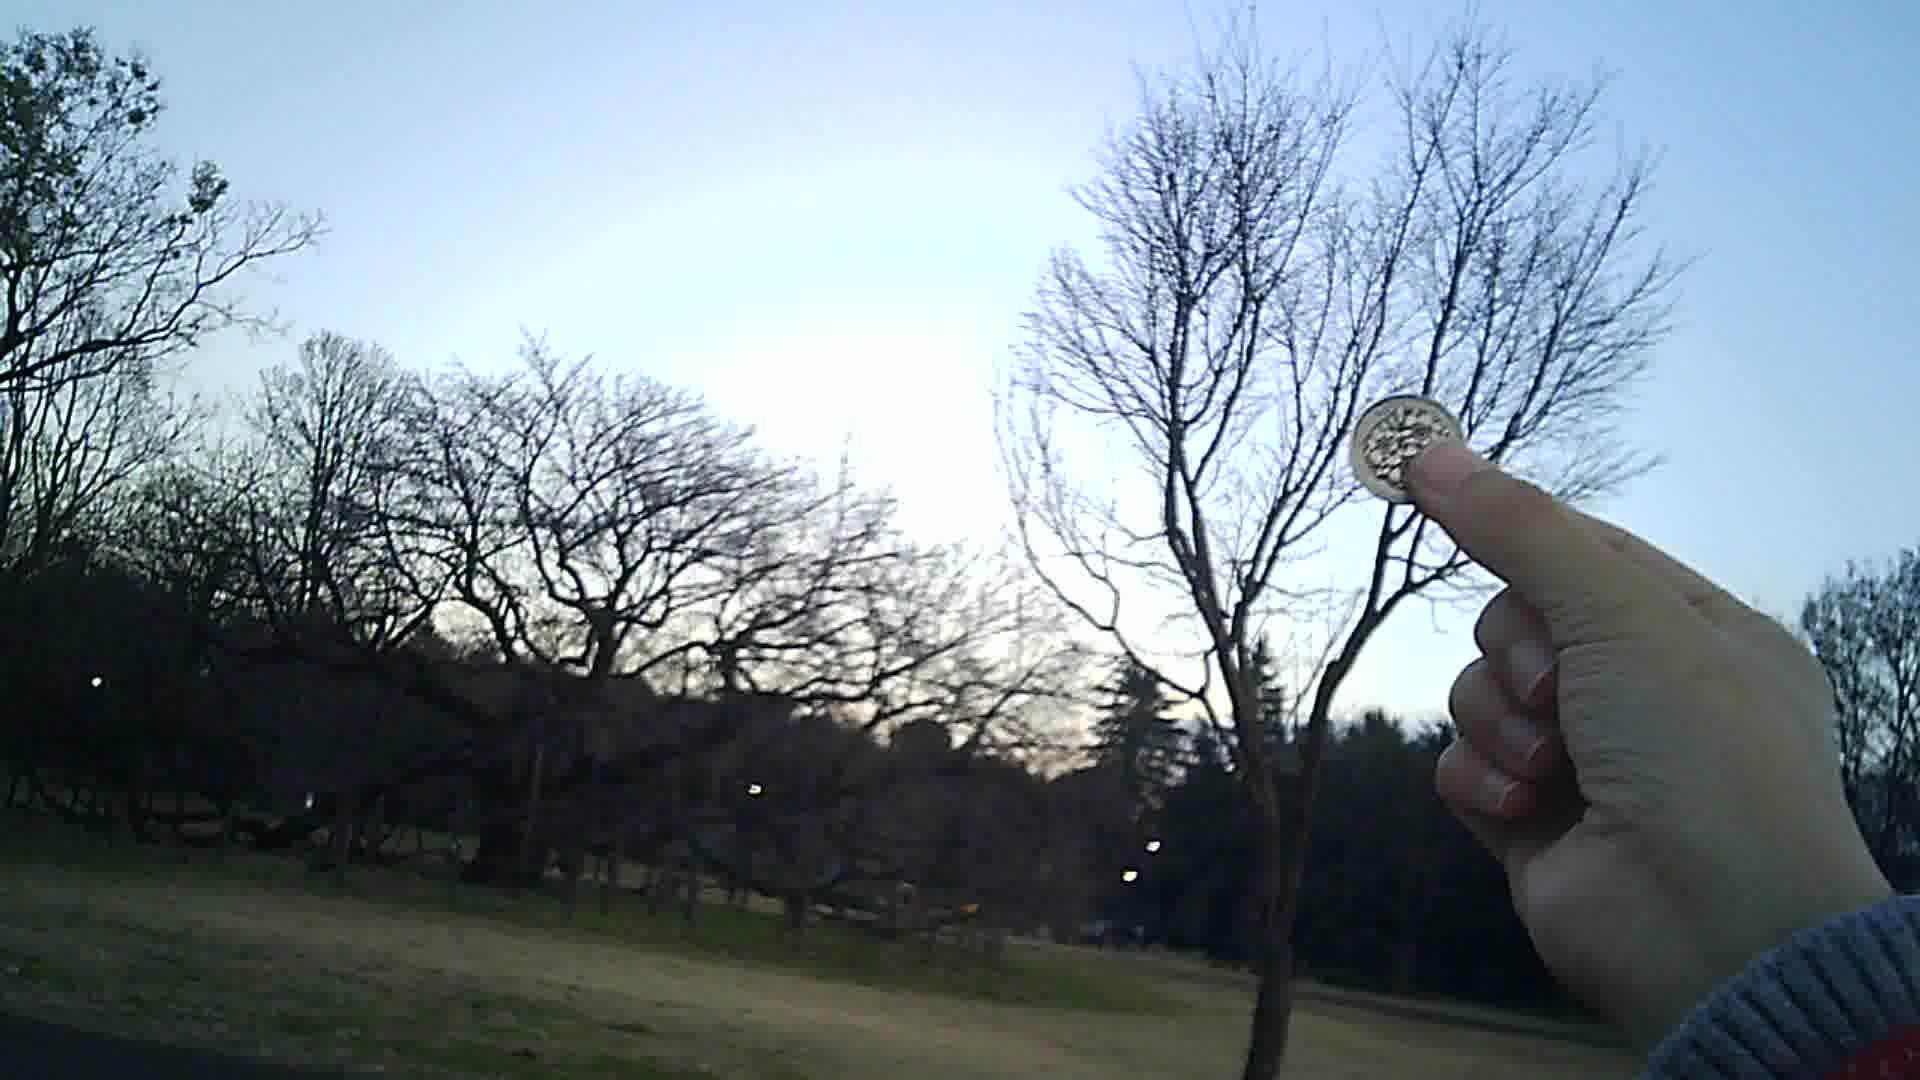100 Yen: (1344, 386, 1464, 508)
